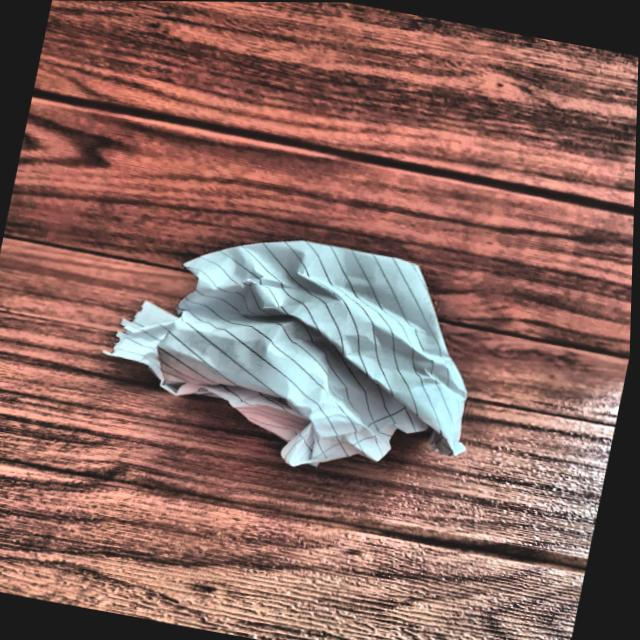Paper: (96, 206, 519, 496)
